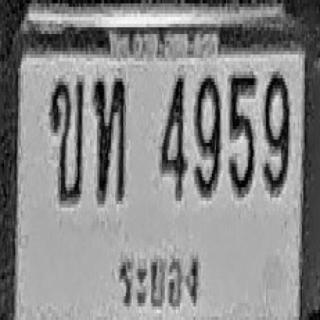A02: (50, 78, 83, 201)
A23: (94, 75, 125, 201)
N04: (160, 73, 186, 199)
N05: (229, 72, 256, 194)
N09: (194, 73, 220, 196), (263, 70, 289, 192)
P53: (116, 240, 203, 320)
